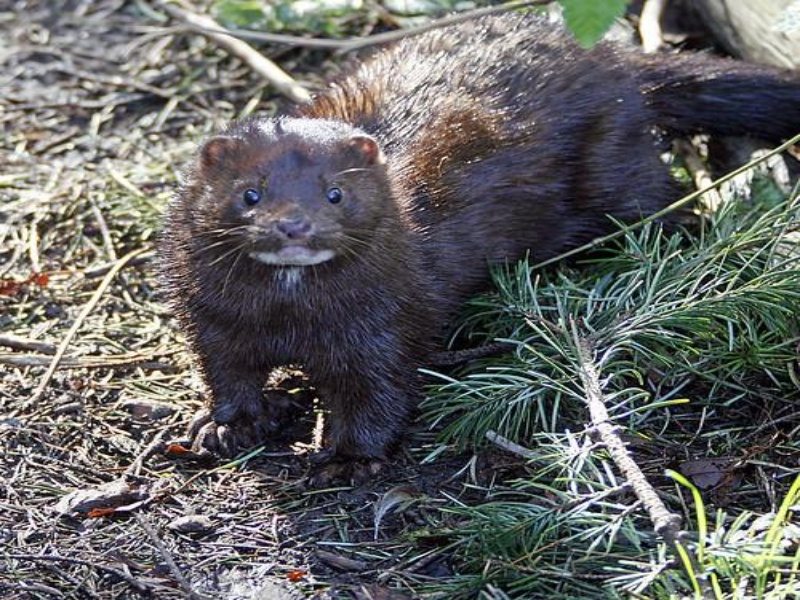minkish: (159, 23, 792, 470)
